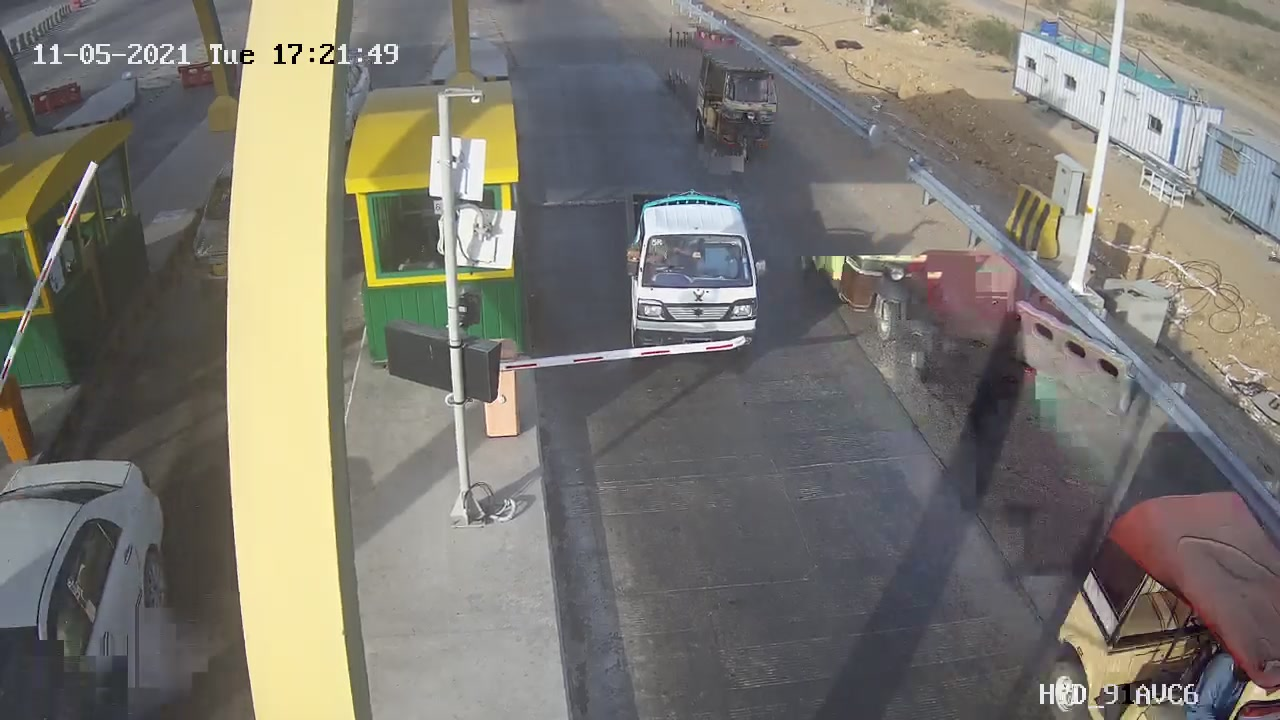F1: (607, 173, 779, 370)
